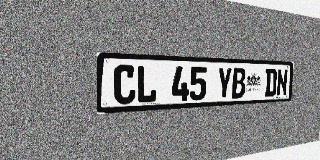4: (172, 66, 190, 102)
5: (190, 66, 207, 101)
B: (231, 68, 246, 98)
C: (113, 64, 136, 105)
D: (265, 68, 277, 97)
L: (136, 65, 157, 103)
N: (276, 69, 288, 96)
Y: (217, 67, 232, 99)
